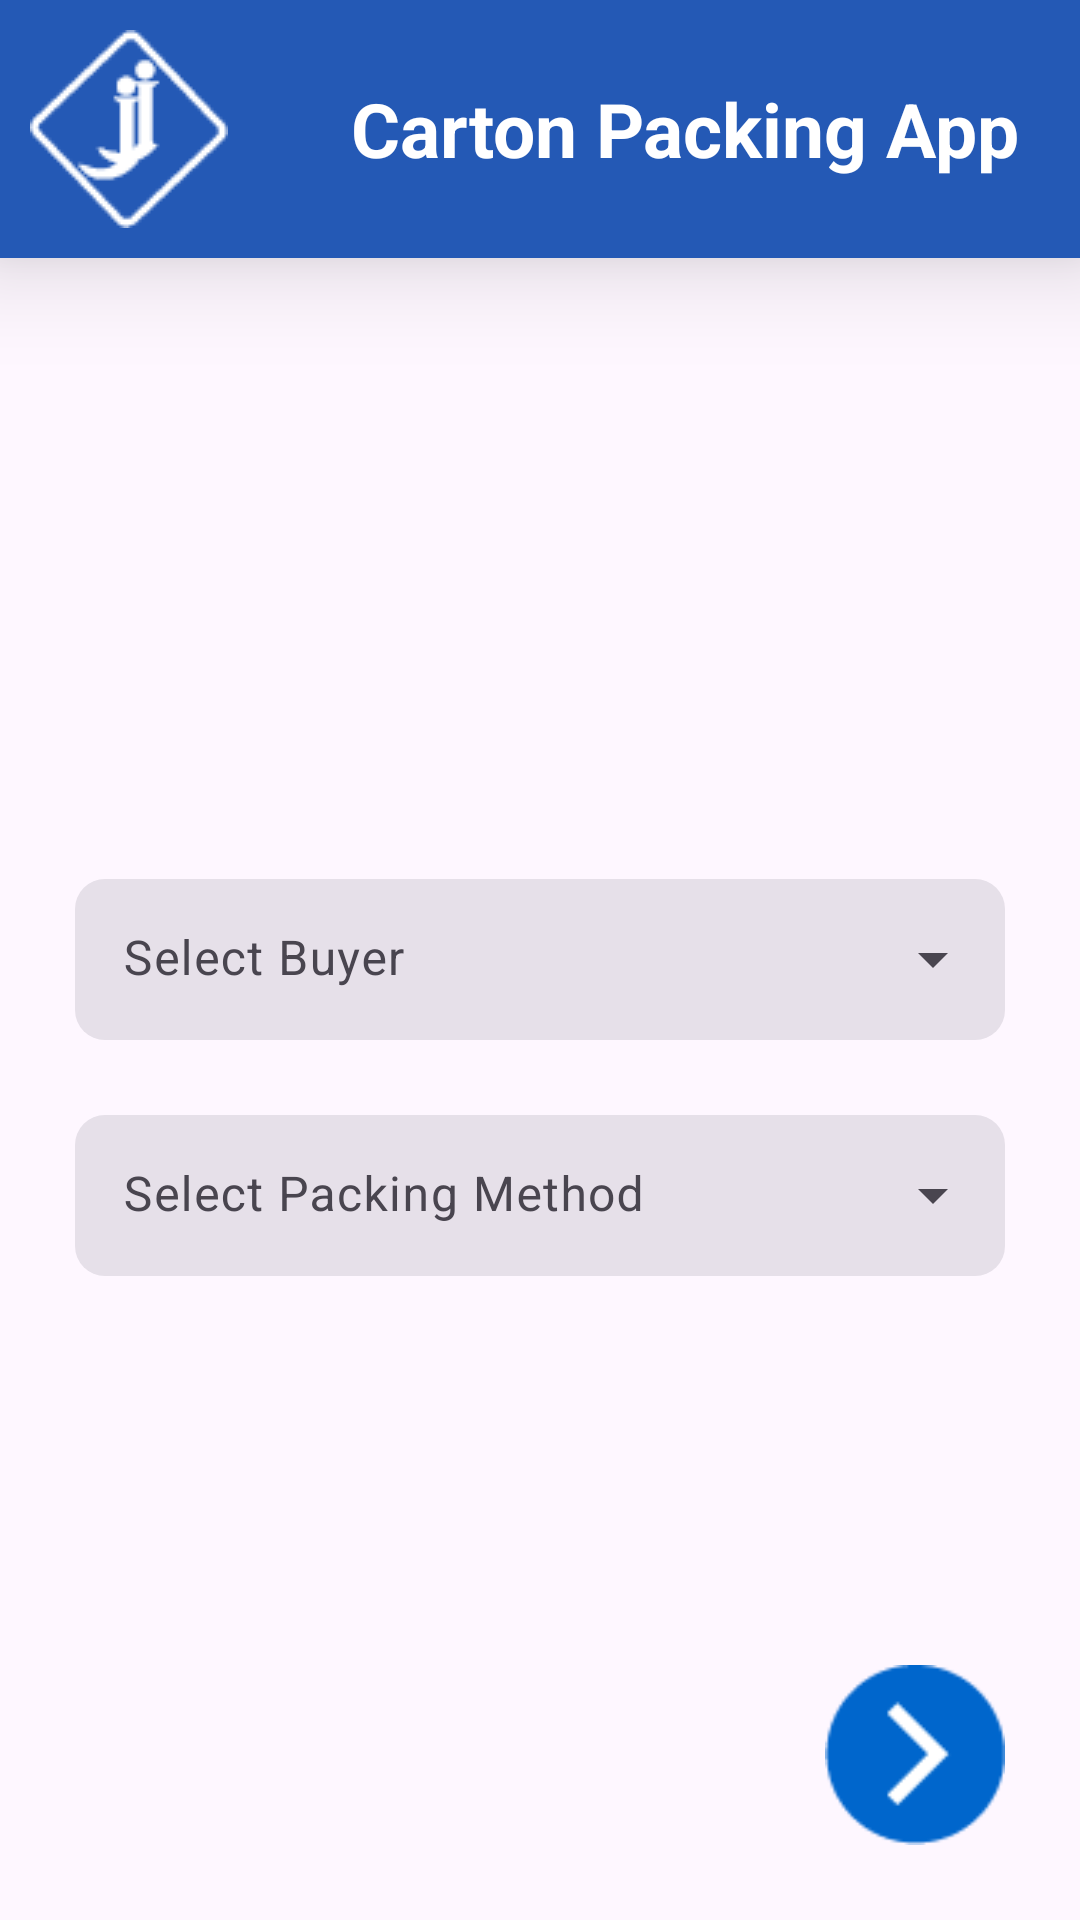

Named icons in this screenshot (1080px×1920px) and their centers, (x=x, y=y):
forward: (x=915, y=1755)
